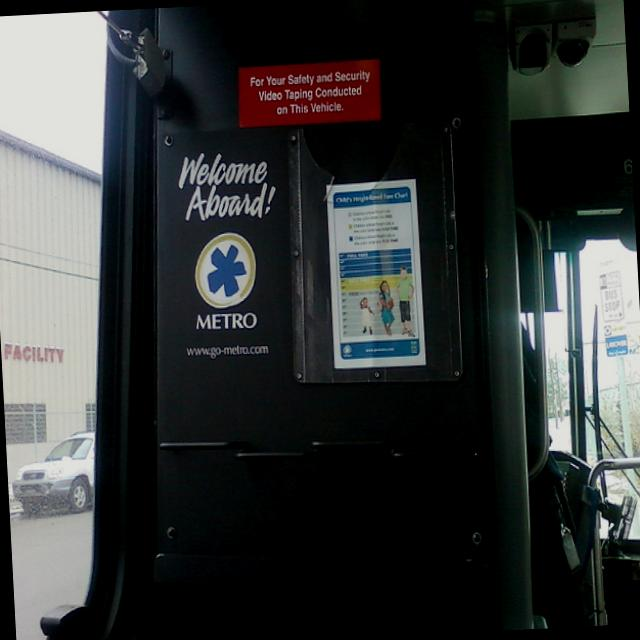Vehicle: (8, 431, 100, 518), (15, 432, 101, 516)
